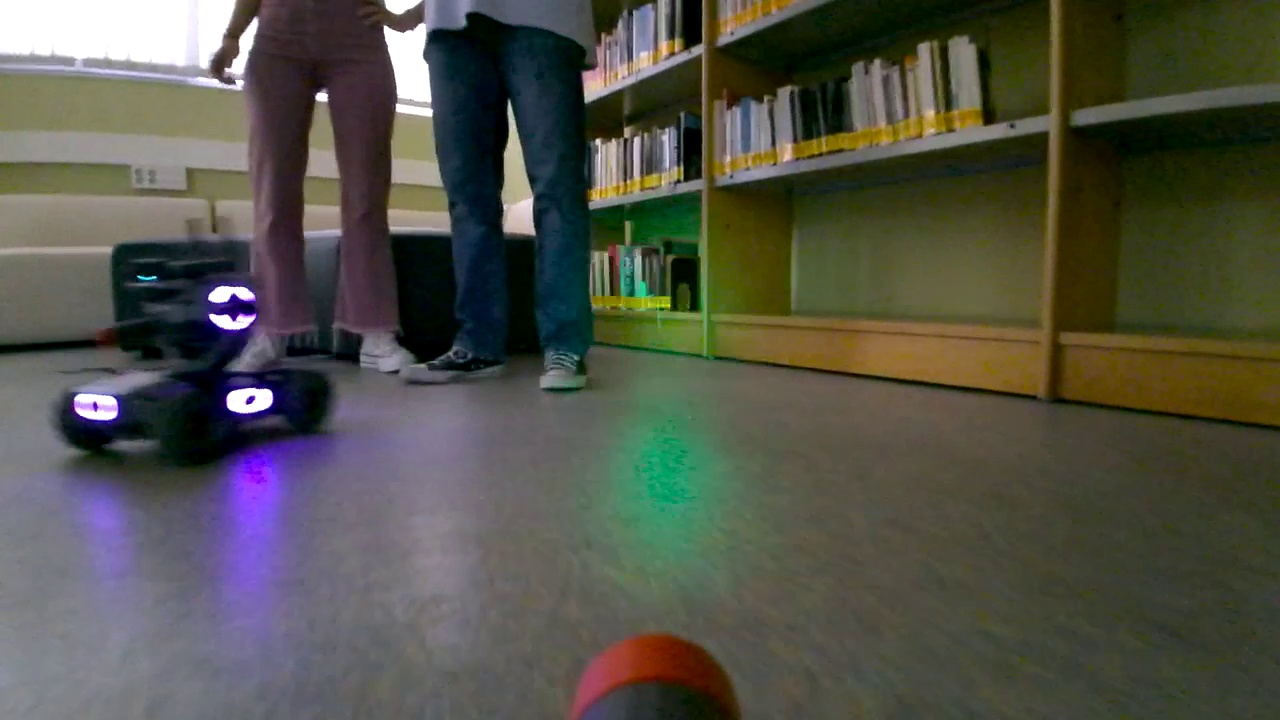robot: (52, 255, 335, 469)
